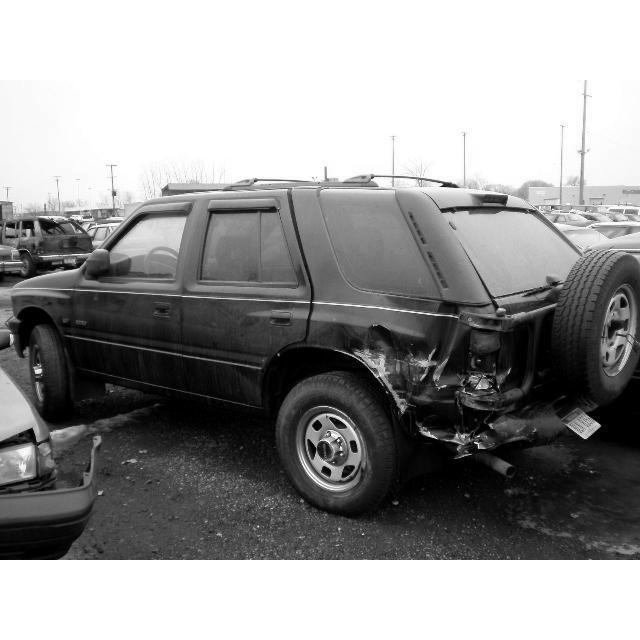quaterpanel-dent: (294, 302, 464, 451)
rear-bumper-dent: (462, 314, 532, 451)
